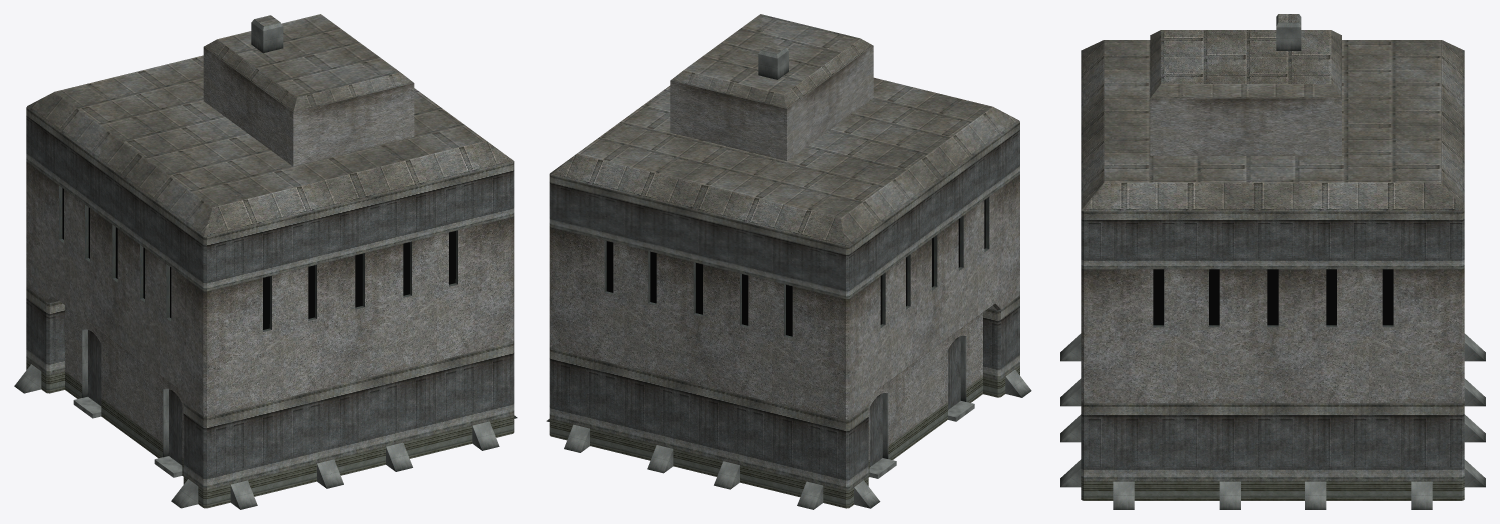
File: thm_corl_imprv_slum_16x16_s01_l0.fbx
The picture shows the model from 3 angles, left to right: view 1: azimuth 30°, elevation 25°; view 2: azimuth 150°, elevation 25°; view 3: azimuth 270°, elevation 25°; orthographic projection. The views are drawn at different scales.
Visible parts, largest first — view 1: mesh_node; view 2: mesh_node; view 3: mesh_node.
Boxes of the visible parts, x1,y1,x2,y2 form: mesh_node: (14,14,517,509); mesh_node: (546,14,1031,509); mesh_node: (1060,14,1485,509).
Size of the model in its own units: 16 by 16.74 by 16.
